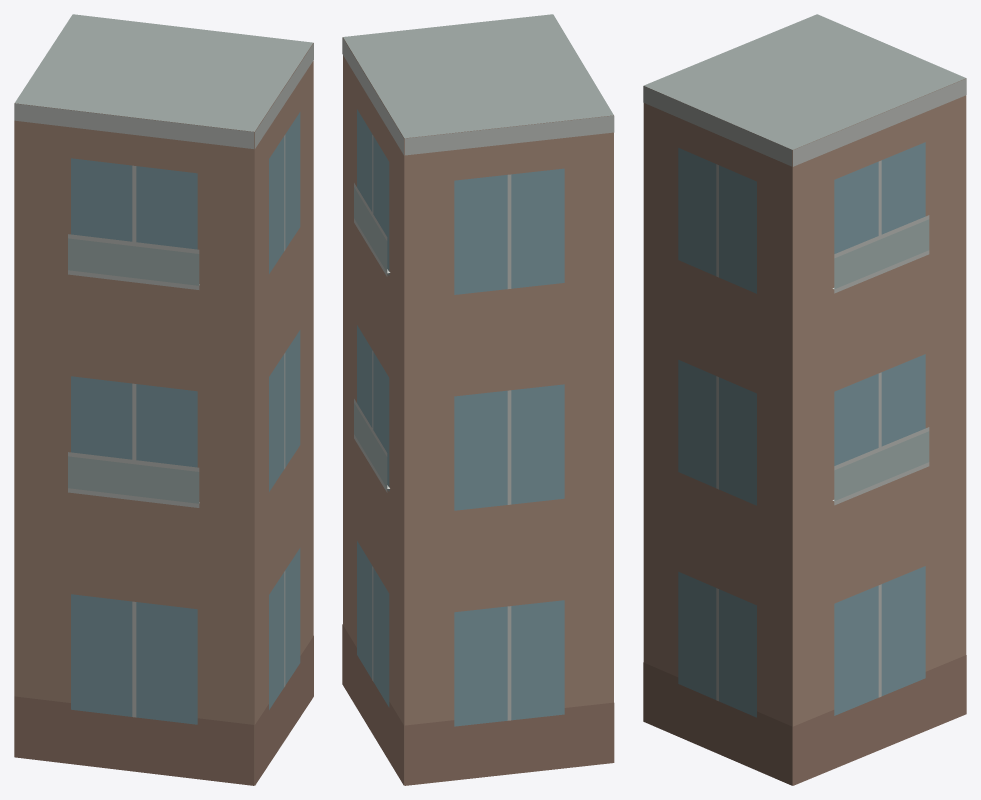
The model's file is survey-upis-32778317.glb.
3 views of the same model, side by side, from view 1: azimuth 30°, elevation 25°; view 2: azimuth 150°, elevation 25°; view 3: azimuth 270°, elevation 25° (orthographic). The views are drawn at different scales.
Visible parts, largest first — view 1: survey-upis-32778317.tmp; view 2: survey-upis-32778317.tmp; view 3: survey-upis-32778317.tmp.
Part boxes in pixels (left/top/right/bottom): survey-upis-32778317.tmp: left=14, top=14, right=313, bottom=785; survey-upis-32778317.tmp: left=342, top=14, right=614, bottom=785; survey-upis-32778317.tmp: left=643, top=14, right=966, bottom=785.
Bounding box in the file's own units: 4.2 × 9.15 × 4.22.
